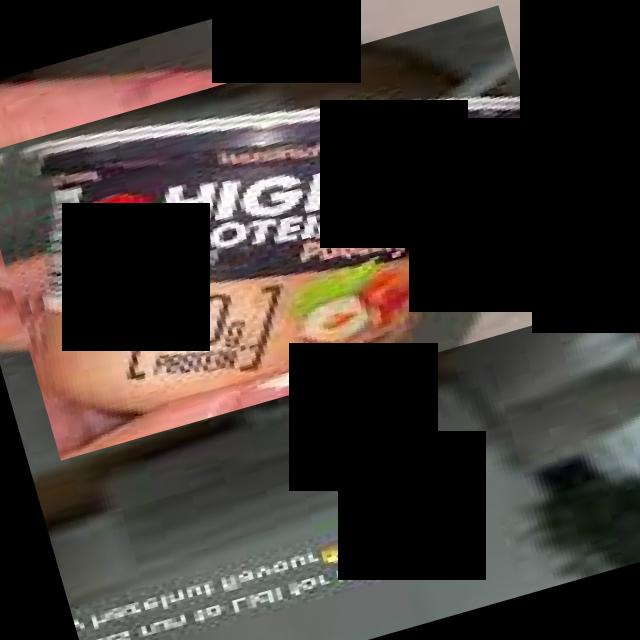yogurt: (0, 5, 585, 460)
